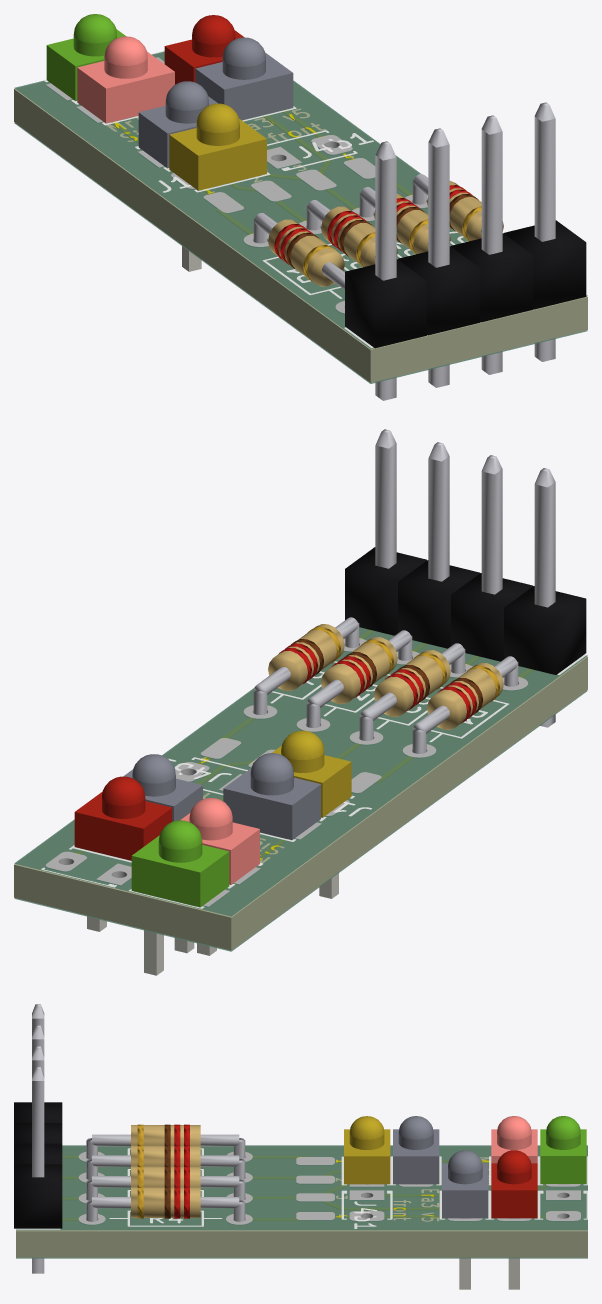
Rendered from MrJ-DB-Era3-breadboard-exit-test-w2.glb.
The picture shows the model from 3 angles, top to bottom: view 1: azimuth 30°, elevation 25°; view 2: azimuth 150°, elevation 25°; view 3: azimuth 270°, elevation 25°; orthographic projection. The views are drawn at different scales.
Visible parts, largest first — view 1: =>[0:1:1:21], =>[0:1:1:3] (×4), =>[0:1:1:19], =>[0:1:1:5] (×4), =>[0:1:1:15] (×2), =>[0:1:1:13], =>[0:1:1:11], =>[0:1:1:17], =>[0:1:1:9], =>[0:1:1:7], =>[0:1:1:18], =>[0:1:1:16] (+1 smaller); view 2: =>[0:1:1:21], =>[0:1:1:3] (×4), =>[0:1:1:19], =>[0:1:1:5] (×4), =>[0:1:1:15] (×2), =>[0:1:1:9], =>[0:1:1:7], =>[0:1:1:17], =>[0:1:1:13], =>[0:1:1:11], =>[0:1:1:18], =>[0:1:1:16] (+1 smaller); view 3: =>[0:1:1:21], =>[0:1:1:19], =>[0:1:1:5] (×4), =>[0:1:1:3] (×4), =>[0:1:1:15] (×2), =>[0:1:1:17], =>[0:1:1:7], =>[0:1:1:13], =>[0:1:1:9], =>[0:1:1:18], =>[0:1:1:11], =>[0:1:1:20] (+1 smaller).
Part boxes in pixels (x1=…): =>[0:1:1:21]: x1=14, y1=53, x2=587, y2=382; =>[0:1:1:3] (×4): x1=345, y1=102, x2=586, y2=400; =>[0:1:1:19]: x1=14, y1=51, x2=587, y2=348; =>[0:1:1:5] (×4): x1=253, y1=174, x2=503, y2=289; =>[0:1:1:15] (×2): x1=138, y1=37, x2=293, y2=168; =>[0:1:1:13]: x1=169, y1=103, x2=266, y2=271; =>[0:1:1:11]: x1=77, y1=36, x2=174, y2=123; =>[0:1:1:17]: x1=46, y1=57, x2=427, y2=313; =>[0:1:1:9]: x1=46, y1=14, x2=125, y2=100; =>[0:1:1:7]: x1=164, y1=15, x2=243, y2=84; =>[0:1:1:18]: x1=43, y1=50, x2=586, y2=347; =>[0:1:1:16]: x1=112, y1=111, x2=412, y2=234; =>[0:1:1:21]: x1=14, y1=628, x2=587, y2=950; =>[0:1:1:3] (×4): x1=345, y1=429, x2=586, y2=727; =>[0:1:1:19]: x1=14, y1=627, x2=587, y2=916; =>[0:1:1:5] (×4): x1=253, y1=617, x2=518, y2=753; =>[0:1:1:15] (×2): x1=123, y1=753, x2=320, y2=839; =>[0:1:1:9]: x1=131, y1=820, x2=229, y2=975; =>[0:1:1:7]: x1=74, y1=776, x2=172, y2=931; =>[0:1:1:17]: x1=45, y1=638, x2=528, y2=906; =>[0:1:1:13]: x1=272, y1=730, x2=351, y2=898; =>[0:1:1:11]: x1=174, y1=798, x2=259, y2=953; =>[0:1:1:18]: x1=41, y1=654, x2=586, y2=908; =>[0:1:1:16]: x1=75, y1=630, x2=532, y2=860; =>[0:1:1:21]: x1=16, y1=1147, x2=587, y2=1257; =>[0:1:1:19]: x1=16, y1=1145, x2=587, y2=1230; =>[0:1:1:5] (×4): x1=86, y1=1124, x2=245, y2=1221; =>[0:1:1:3] (×4): x1=14, y1=1004, x2=62, y2=1273; =>[0:1:1:15] (×2): x1=393, y1=1116, x2=488, y2=1289; =>[0:1:1:17]: x1=78, y1=1152, x2=580, y2=1224; =>[0:1:1:7]: x1=491, y1=1150, x2=537, y2=1289; =>[0:1:1:13]: x1=344, y1=1116, x2=390, y2=1184; =>[0:1:1:9]: x1=540, y1=1116, x2=586, y2=1184; =>[0:1:1:18]: x1=16, y1=1148, x2=587, y2=1229; =>[0:1:1:11]: x1=491, y1=1116, x2=537, y2=1163; =>[0:1:1:20]: x1=16, y1=1257, x2=587, y2=1258.
Bounding box in the file's own units: 0.0104 × 0.0127 × 0.0297.
